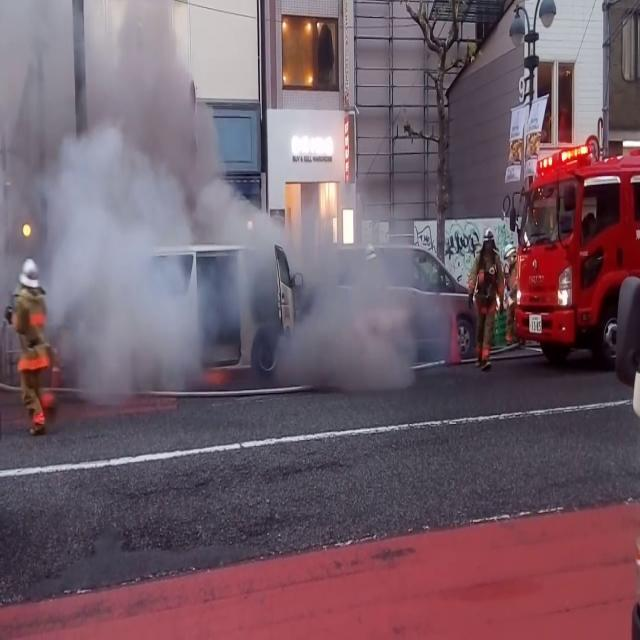Smoke: (1, 0, 258, 419), (253, 182, 452, 406)
